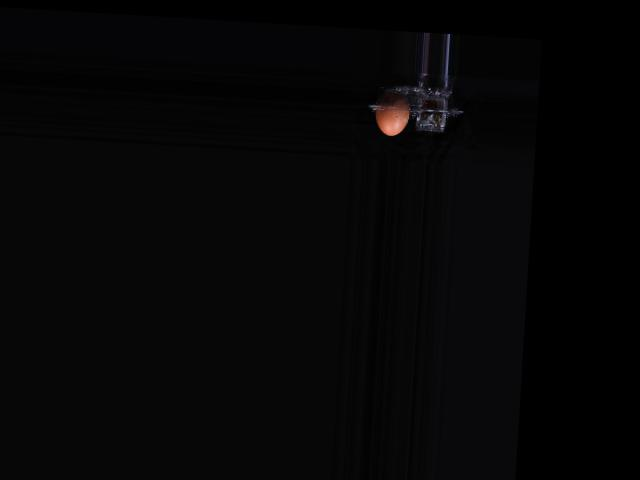egg: (373, 89, 410, 136)
